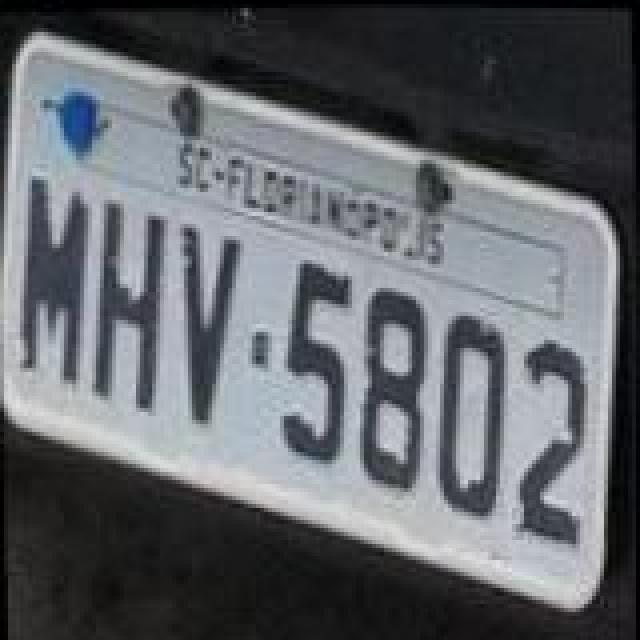2: (506, 328, 594, 548)
5: (274, 256, 358, 464)
8: (352, 282, 432, 490)
H: (82, 196, 170, 412)
M: (10, 170, 94, 386)
O: (434, 306, 514, 518)
V: (178, 216, 250, 428)
